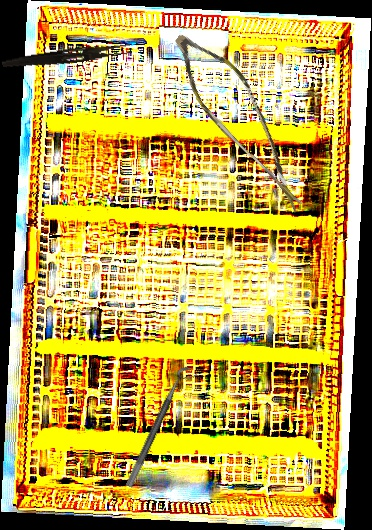Dressing Forceps: (1, 39, 132, 74)
Fixation Ring: (124, 364, 199, 493)
Micro Scissor: (146, 23, 343, 217)
